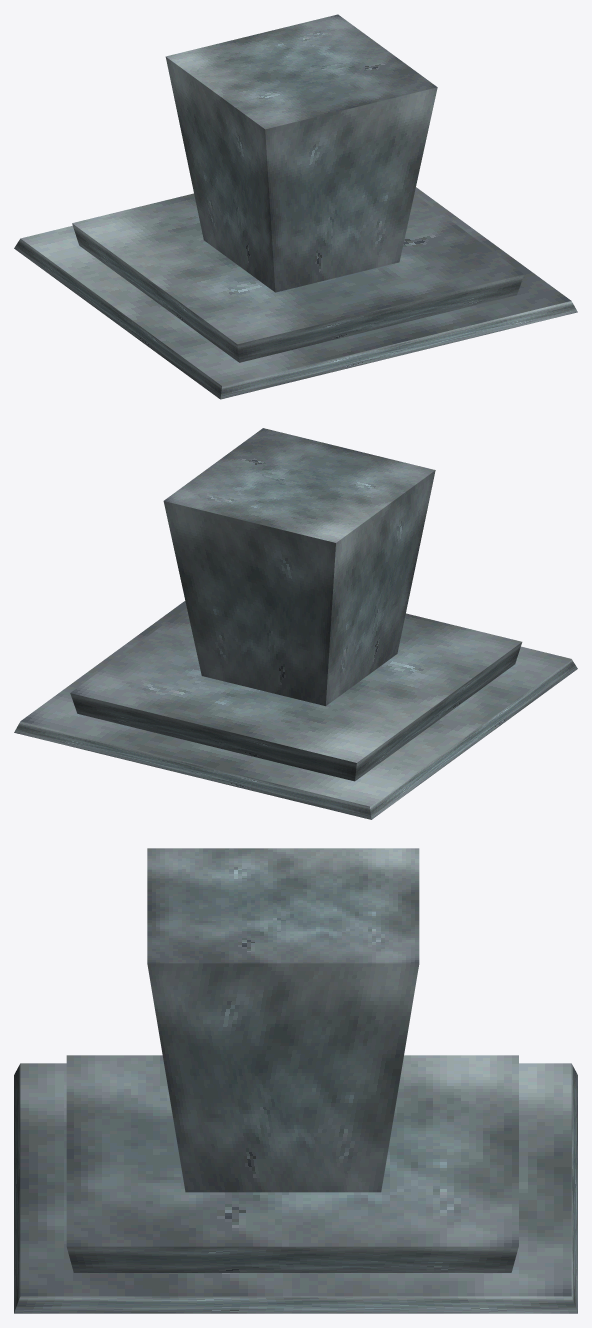
Rendered from Sockel_539.glb.
3 views of the same model, one above another, from view 1: azimuth 30°, elevation 25°; view 2: azimuth 150°, elevation 25°; view 3: azimuth 270°, elevation 25° (orthographic). The views are drawn at different scales.
Visible parts, largest first — view 1: pPlaneShape11, pPlaneShape20, pPlaneShape16, pPlaneShape1, pPlaneShape17, pPlaneShape15, pPlaneShape5, pPlaneShape2, pPlaneShape12; view 2: pPlaneShape11, pPlaneShape19, pPlaneShape16, pPlaneShape1, pPlaneShape17, pPlaneShape14, pPlaneShape4, pPlaneShape2, pPlaneShape12; view 3: pPlaneShape11, pPlaneShape18, pPlaneShape1, pPlaneShape16, pPlaneShape13, pPlaneShape3, pPlaneShape4, pPlaneShape5.
Boxes of the visible parts, box(x1,y1,x2,y2) form: pPlaneShape11: box(72, 193, 523, 344); pPlaneShape20: box(265, 87, 437, 292); pPlaneShape16: box(166, 14, 437, 129); pPlaneShape1: box(20, 187, 571, 385); pPlaneShape17: box(165, 57, 275, 291); pPlaneShape15: box(237, 274, 523, 362); pPlaneShape5: box(220, 301, 577, 399); pPlaneShape2: box(14, 238, 221, 398); pPlaneShape12: box(72, 223, 239, 362); pPlaneShape11: box(70, 608, 521, 762); pPlaneShape19: box(163, 501, 335, 705); pPlaneShape16: box(164, 428, 435, 542); pPlaneShape1: box(21, 601, 570, 806); pPlaneShape17: box(326, 470, 435, 705); pPlaneShape14: box(70, 693, 356, 781); pPlaneShape4: box(14, 721, 371, 819); pPlaneShape2: box(370, 659, 577, 819); pPlaneShape12: box(355, 642, 522, 780); pPlaneShape11: box(66, 1055, 518, 1246); pPlaneShape18: box(147, 963, 419, 1192); pPlaneShape1: box(20, 1063, 571, 1296); pPlaneShape16: box(147, 848, 419, 963); pPlaneShape13: box(67, 1246, 518, 1272); pPlaneShape3: box(14, 1296, 577, 1313); pPlaneShape4: box(571, 1064, 577, 1312); pPlaneShape5: box(14, 1064, 20, 1312).
Bounding box in the file's own units: 0.779 × 0.4406 × 0.779.
15 materials, 15 textured.
